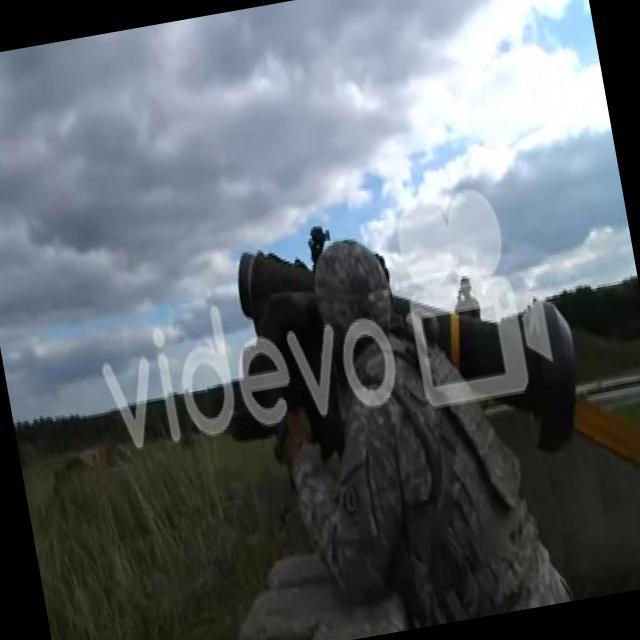rocket: (231, 194, 588, 494)
